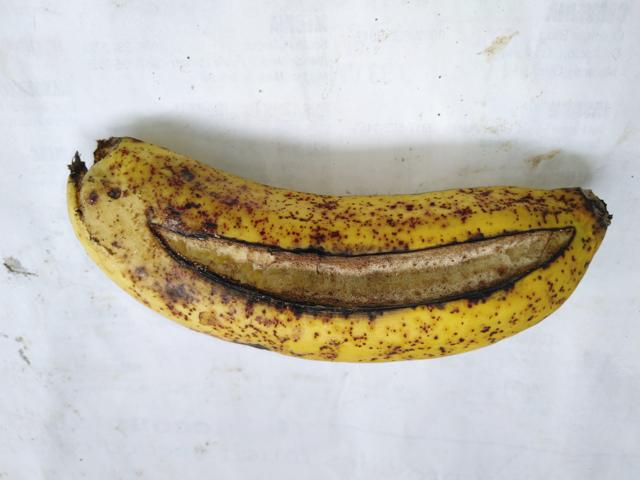rotten: (129, 190, 589, 358)
